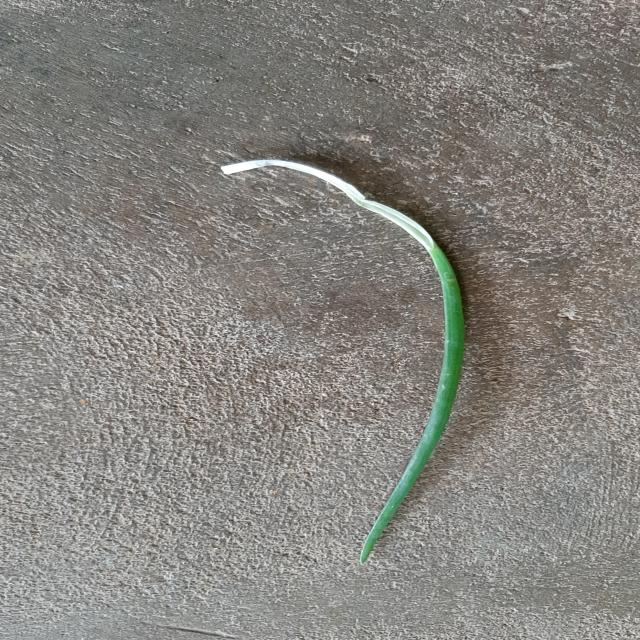onion: (219, 159, 463, 561)
